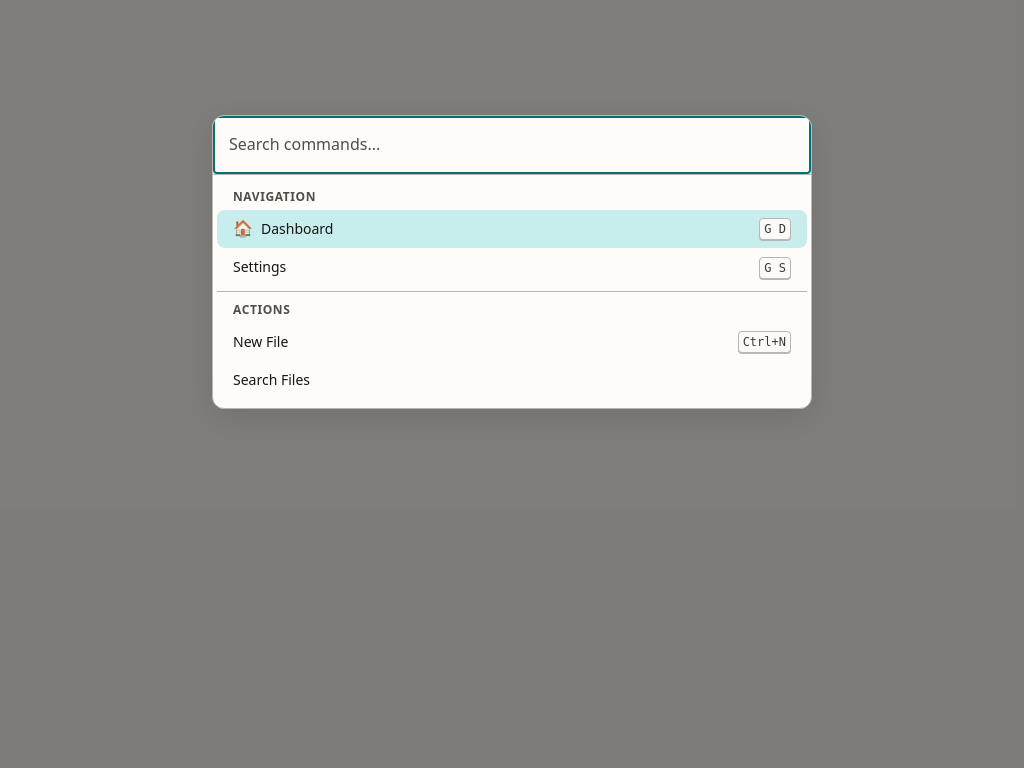
Test: CommandPalette › filters items on search input
The image size is (1024, 768).
Type "dash" into the field labelled "Search commands" at (512, 145), box x1=213 y1=116 x2=811 y2=174
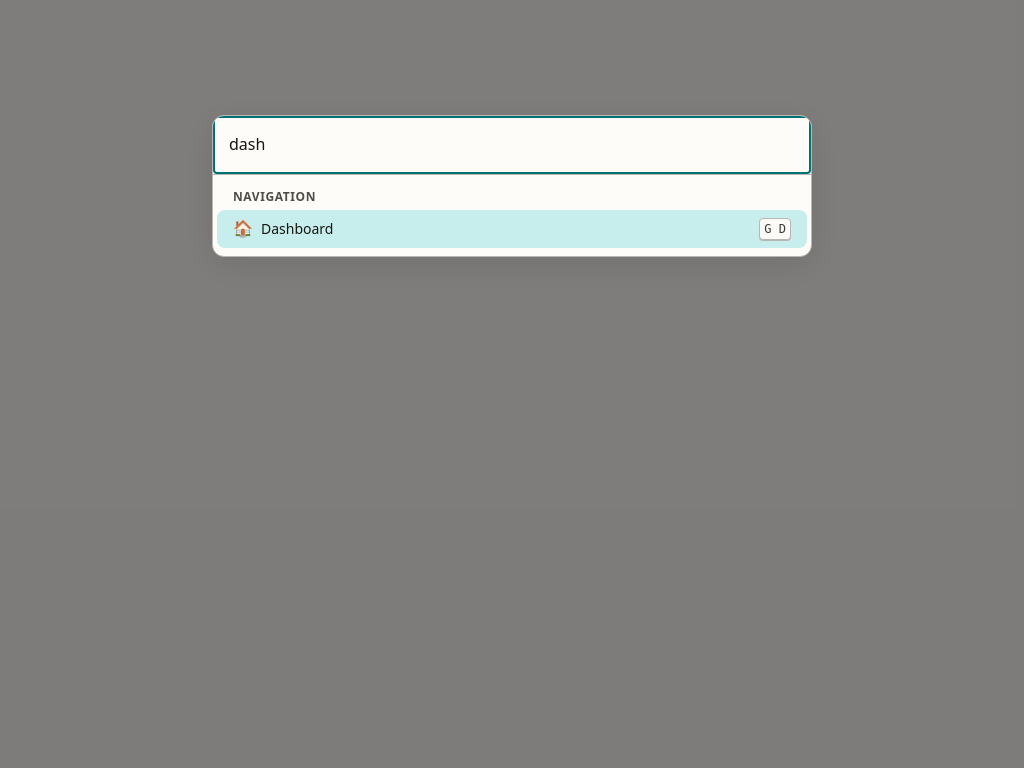
Expected: the text "Dashboard" is shown, x1=261 y1=219 x2=334 y2=238
Now the option "Settings" is gone
